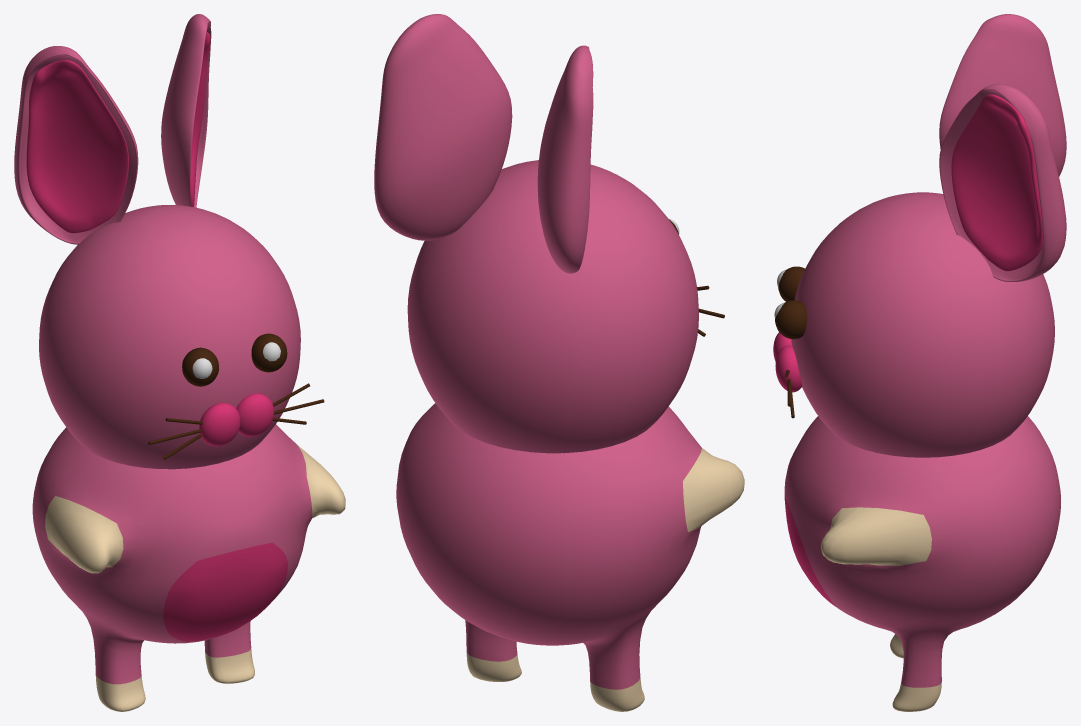
File: rabbit.fbx
3 renders of one model, left to right at view 1: azimuth 30°, elevation 25°; view 2: azimuth 150°, elevation 25°; view 3: azimuth 270°, elevation 25°, orthographic. The views are drawn at different scales.
Parts seen in each view (by area): view 1: polySurface14, pSphere9, pSphere4 (×2), pSphere3 (×2), pSphere13, pSphere5, pSphere6; view 2: polySurface14, pSphere9, pSphere3 (×2); view 3: pSphere9, polySurface14, pSphere3 (×2), pSphere4, pSphere13, pSphere5, pSphere6.
Boxes of the visible parts, left/top/right/bottom form: polySurface14: left=32, top=424, right=345, bottom=711; pSphere9: left=39, top=205, right=300, bottom=469; pSphere4 (×2): left=26, top=32, right=210, bottom=233; pSphere3 (×2): left=14, top=14, right=211, bottom=244; pSphere13: left=199, top=393, right=274, bottom=446; pSphere5: left=251, top=333, right=287, bottom=372; pSphere6: left=182, top=347, right=218, bottom=386; polySurface14: left=396, top=403, right=744, bottom=711; pSphere9: left=407, top=160, right=698, bottom=453; pSphere3 (×2): left=374, top=14, right=593, bottom=273; pSphere9: left=791, top=192, right=1054, bottom=457; polySurface14: left=784, top=416, right=1060, bottom=711; pSphere3 (×2): left=939, top=14, right=1066, bottom=281; pSphere4: left=951, top=94, right=1042, bottom=271; pSphere13: left=773, top=332, right=802, bottom=392; pSphere5: left=775, top=300, right=807, bottom=339; pSphere6: left=778, top=266, right=804, bottom=301.
Size of the model in its own units: 1 by 2.28 by 0.9609.
